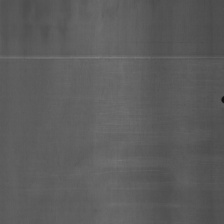welding_line: (1, 50, 224, 66), (220, 93, 224, 105)
